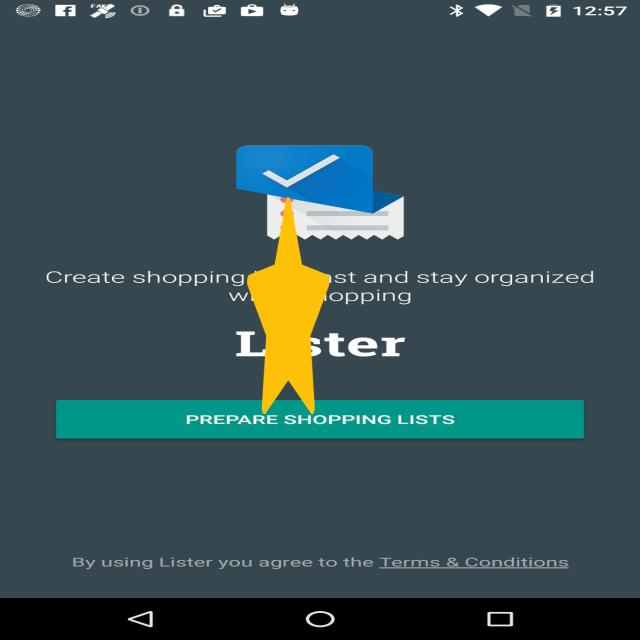forced continuity: (247, 197, 330, 414)
